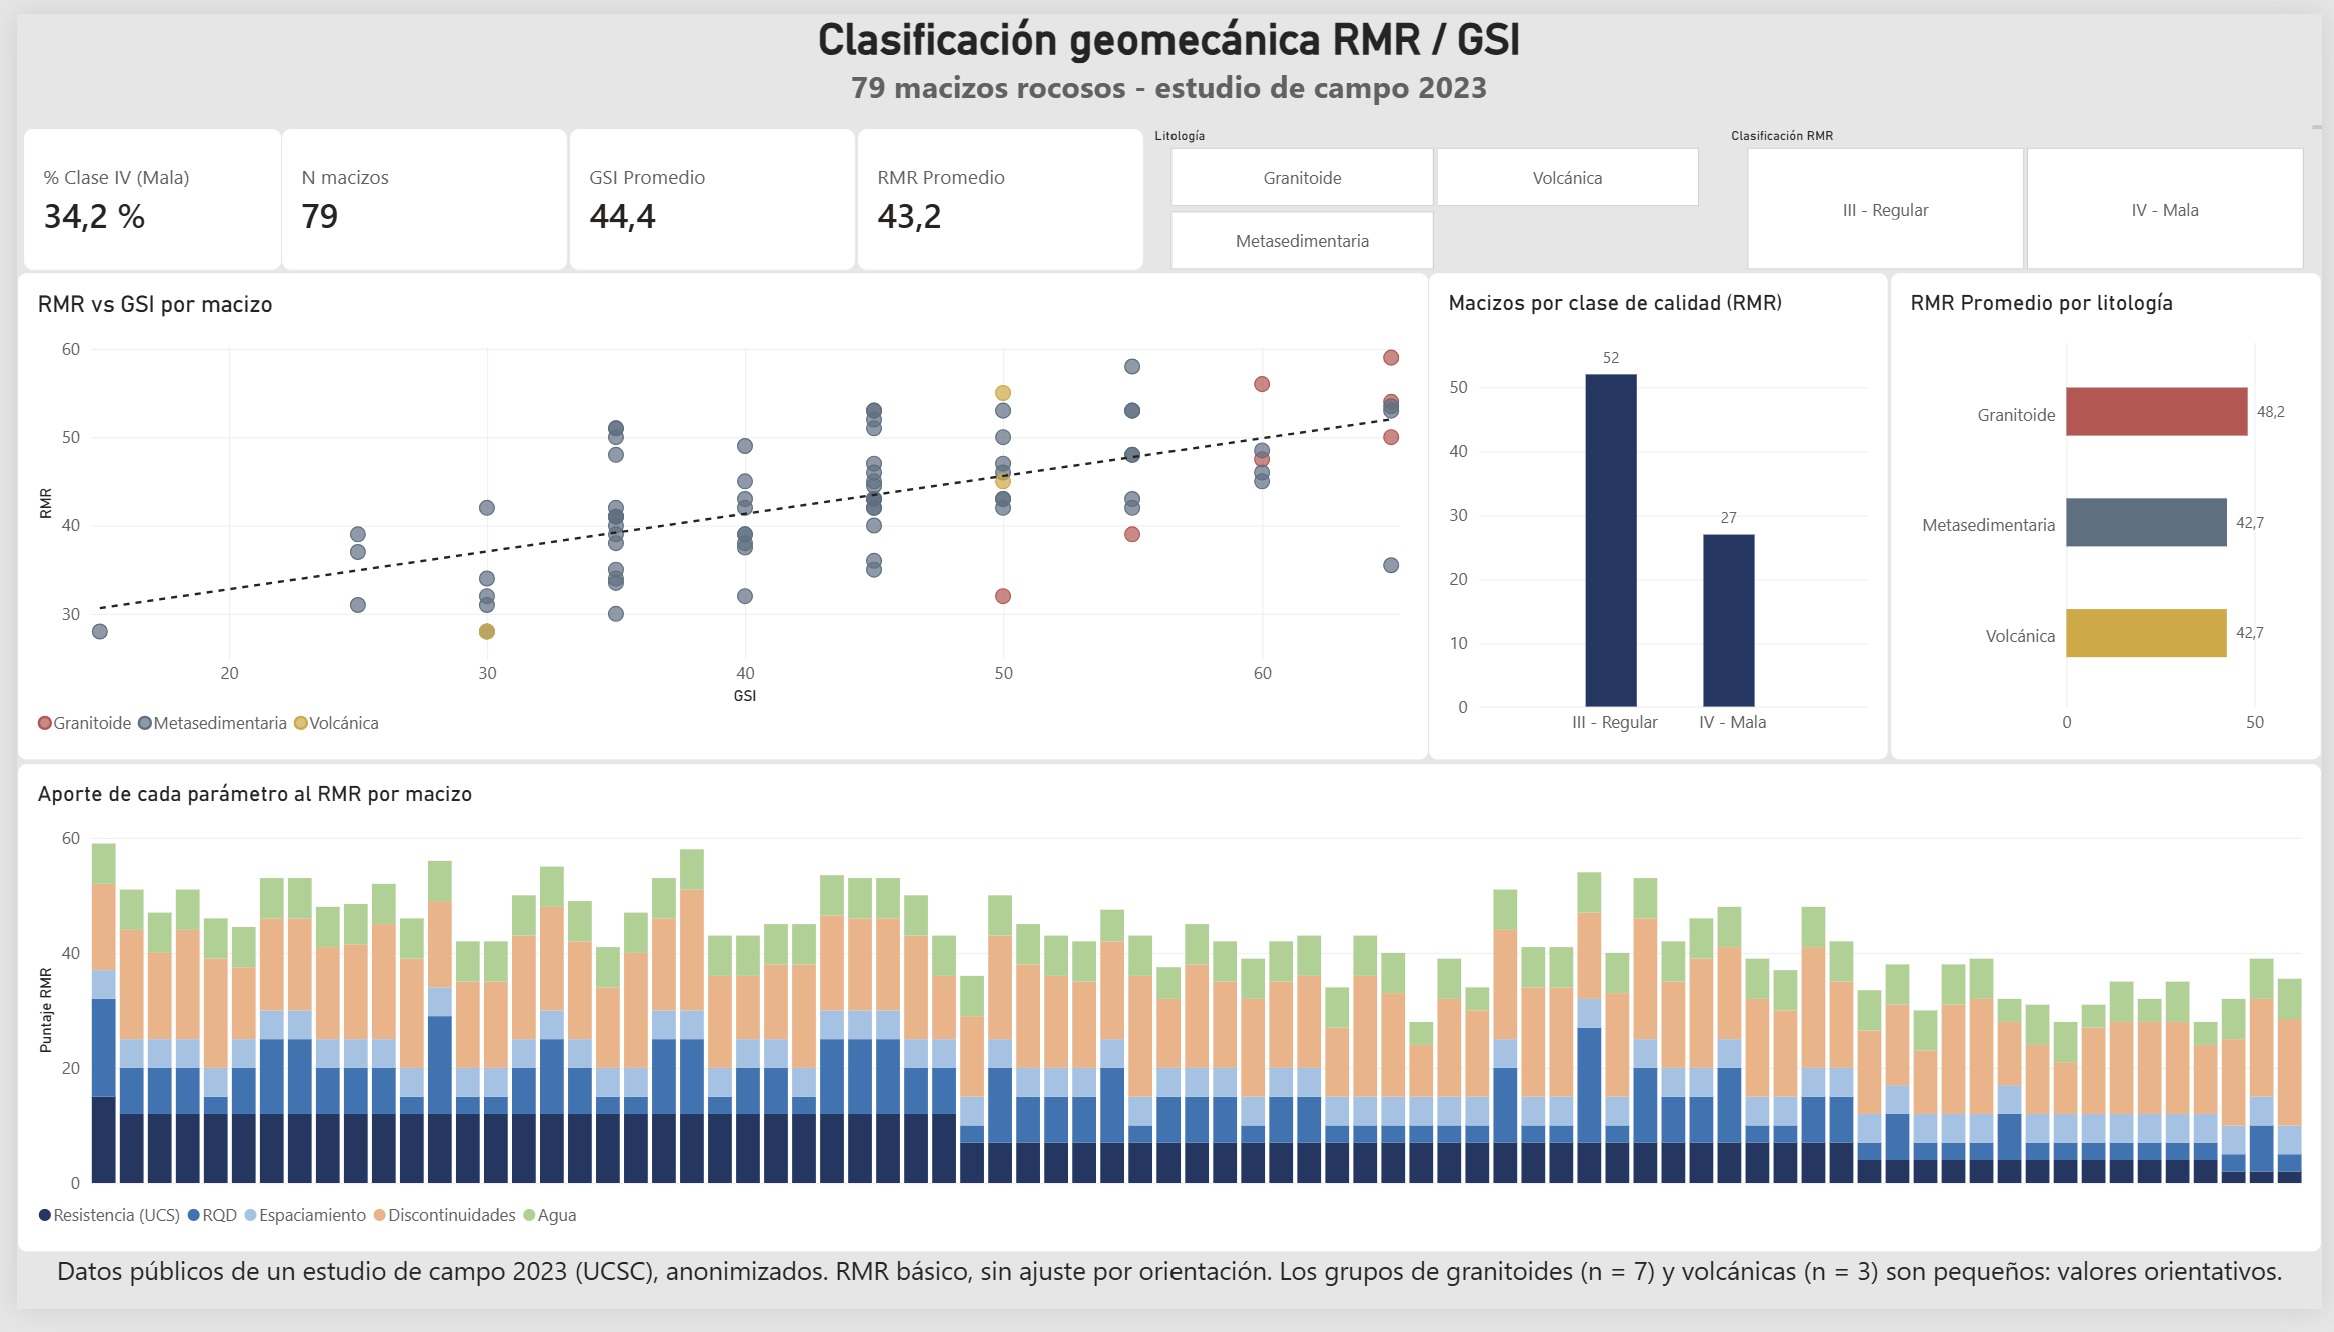

This screenshot's page, from the dashboard's own definition file:
{"tool":"powerbi","page":{"name":"Página 1","canvas":[1920,1080],"ordinal":0},"visuals":[{"type":"scatterChart","title":"RMR vs GSI por macizo","fields":{"Category":["Datos.id_macizo"],"Series":["Datos.litologia"],"X":["Avg(Datos.GSI)"],"Y":["Avg(Datos.RMR)"]},"box":[0,216,1176,408],"z":0},{"type":"cardVisual","fields":{"Data":["Datos.% Clase IV (Mala)"]},"box":[4.2,94.1,216,120],"z":1000},{"type":"cardVisual","fields":{"Data":["Datos.N macizos"]},"box":[220.2,94.1,240,120],"z":3000},{"type":"cardVisual","fields":{"Data":["Datos.GSI Promedio"]},"box":[460.2,94.1,240,120],"z":4000},{"type":"cardVisual","fields":{"Data":["Datos.RMR Promedio"]},"box":[700.2,94.1,240,120],"z":5000},{"type":"slicer","fields":{"Values":["Datos.litologia"]},"box":[940.2,94.1,480,120],"z":6000},{"type":"slicer","fields":{"Values":["Datos.clase_RMR"]},"box":[1420.2,94.1,504,120],"z":7000},{"type":"clusteredColumnChart","title":"Macizos por clase de calidad (RMR)","fields":{"Category":["Datos.clase_RMR"],"Y":["Datos.N macizos"]},"box":[1176,216,384,408],"z":8000},{"type":"columnChart","title":"Aporte de cada parámetro al RMR por macizo","fields":{"Category":["Datos.id_macizo"],"Y":["Sum(Datos.resistencia_UCS)","Sum(Datos.RQD_puntaje)","Sum(Datos.espaciamiento)","Sum(Datos.condicion_discont)","Sum(Datos.agua)"]},"box":[0,624,1920,408],"z":9000},{"type":"clusteredBarChart","title":"RMR Promedio por litología","fields":{"Category":["Datos.litologia"],"Y":["Datos.RMR Promedio"]},"box":[1560,216,360,408],"z":10000},{"type":"textbox","box":[1536,0,384,168],"z":11000},{"type":"textbox","box":[0,1032,1920,48],"z":12000},{"type":"textbox","title":"Clasificación geomecánica RMR / GSI","box":[0,0,1920,96],"z":13000}]}

Visuals, with their boxes in screenshot pixels (x1, y1, x2, y2), scaled from the page's 1920x1080 canvas onto the 2334x1332 screenshot:
"RMR vs GSI por macizo" scatterChart: l=0, t=266, r=1430, b=770
cardVisual - Datos.% Clase IV (Mala): l=5, t=116, r=268, b=264
cardVisual - Datos.N macizos: l=268, t=116, r=559, b=264
cardVisual - Datos.GSI Promedio: l=559, t=116, r=851, b=264
cardVisual - Datos.RMR Promedio: l=851, t=116, r=1143, b=264
slicer - Datos.litologia: l=1143, t=116, r=1726, b=264
slicer - Datos.clase_RMR: l=1726, t=116, r=2333, b=264
"Macizos por clase de calidad (RMR)" clusteredColumnChart: l=1430, t=266, r=1896, b=770
"Aporte de cada parámetro al RMR por macizo" columnChart: l=0, t=770, r=2333, b=1273
"RMR Promedio por litología" clusteredBarChart: l=1896, t=266, r=2333, b=770
textbox: l=1867, t=0, r=2333, b=207
textbox: l=0, t=1273, r=2333, b=1331
"Clasificación geomecánica RMR / GSI" textbox: l=0, t=0, r=2333, b=118
